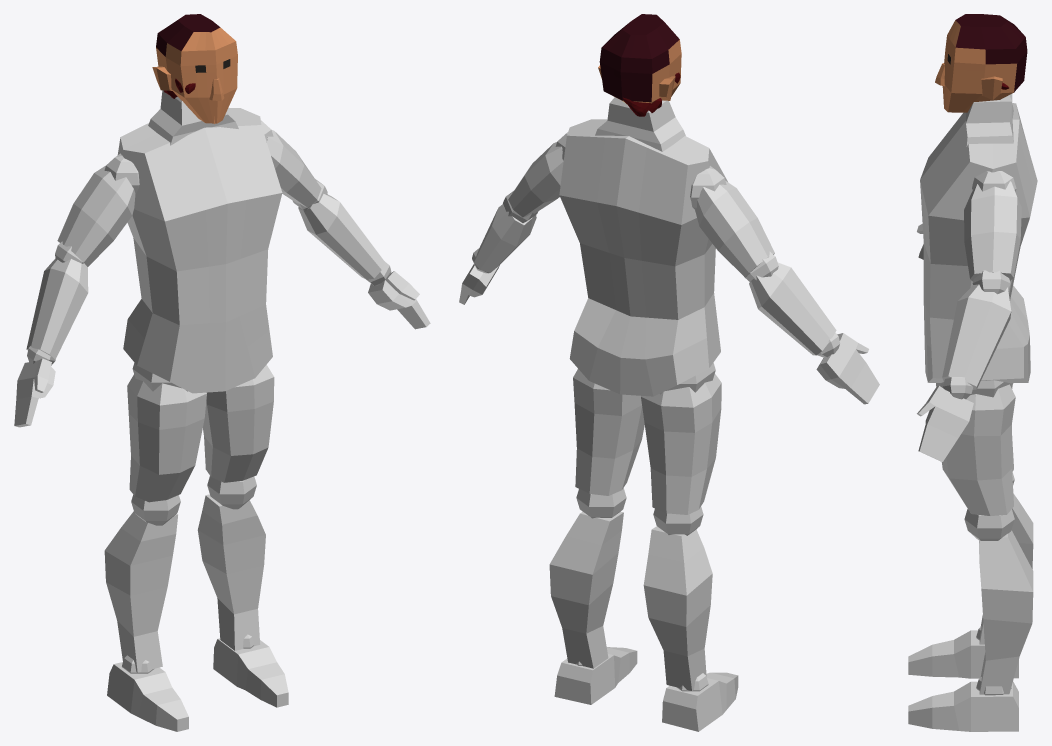
The model's file is fullBodyHeadGibbed.glb.
3 views of the same model, side by side, from view 1: azimuth 30°, elevation 25°; view 2: azimuth 150°, elevation 25°; view 3: azimuth 270°, elevation 25° (orthographic).
Parts seen in each view (by area): view 1: torso, pierna_inf_der, pierna_inf_izq, pierna_sup_der, pierna_sup_izq, head_outer, brazo_sup_der, brazo_inf_der, pie_der, brazo_inf_izq, pie_izq, brazo_sup_izq (+3 smaller); view 2: torso, pierna_inf_der, pierna_inf_izq, pierna_sup_der, pierna_sup_izq, head_outer, brazo_sup_der, brazo_inf_der, pie_der, pie_izq, cuello, mano_der (+3 smaller); view 3: torso, pierna_inf_izq, pierna_sup_izq, head_outer, brazo_sup_izq, brazo_inf_izq, pie_izq, mano_izq, pie_der, cuello, pierna_inf_der, detalles_cabeza.
Boxes of the visible parts, box(x1,y1,x2,y2) form: torso: box(117, 108, 282, 393); pierna_inf_der: box(104, 494, 180, 672); pierna_inf_izq: box(197, 476, 265, 650); pierna_sup_der: box(127, 363, 206, 502); pierna_sup_izq: box(203, 364, 274, 482); head_outer: box(156, 14, 237, 123); brazo_sup_der: box(57, 153, 139, 266); brazo_inf_der: box(26, 241, 88, 359); pie_der: box(107, 655, 188, 731); brazo_inf_izq: box(292, 179, 384, 279); pie_izq: box(213, 634, 288, 707); brazo_sup_izq: box(261, 120, 321, 207); torso: box(559, 119, 727, 396); pierna_inf_der: box(643, 506, 712, 690); pierna_inf_izq: box(549, 488, 626, 668); pierna_sup_der: box(641, 362, 721, 514); pierna_sup_izq: box(573, 369, 644, 495); head_outer: box(599, 14, 681, 103); brazo_sup_der: box(690, 166, 774, 277); brazo_inf_der: box(744, 251, 836, 355); pie_der: box(662, 672, 738, 731); pie_izq: box(554, 647, 637, 704); cuello: box(595, 97, 685, 151); mano_der: box(816, 333, 879, 404); torso: box(920, 103, 1037, 383); pierna_inf_izq: box(964, 509, 1033, 694); pierna_sup_izq: box(940, 380, 1015, 515); head_outer: box(942, 14, 1027, 112); brazo_sup_izq: box(964, 171, 1021, 281); brazo_inf_izq: box(942, 270, 1011, 389); pie_izq: box(908, 677, 1018, 731); mano_izq: box(917, 377, 973, 461); pie_der: box(908, 626, 1018, 678); cuello: box(966, 94, 1013, 146); pierna_inf_der: box(979, 472, 1033, 644); detalles_cabeza: box(935, 63, 1002, 99).
Bounding box in the file's own units: 1.77 × 2.8 × 0.4839.
